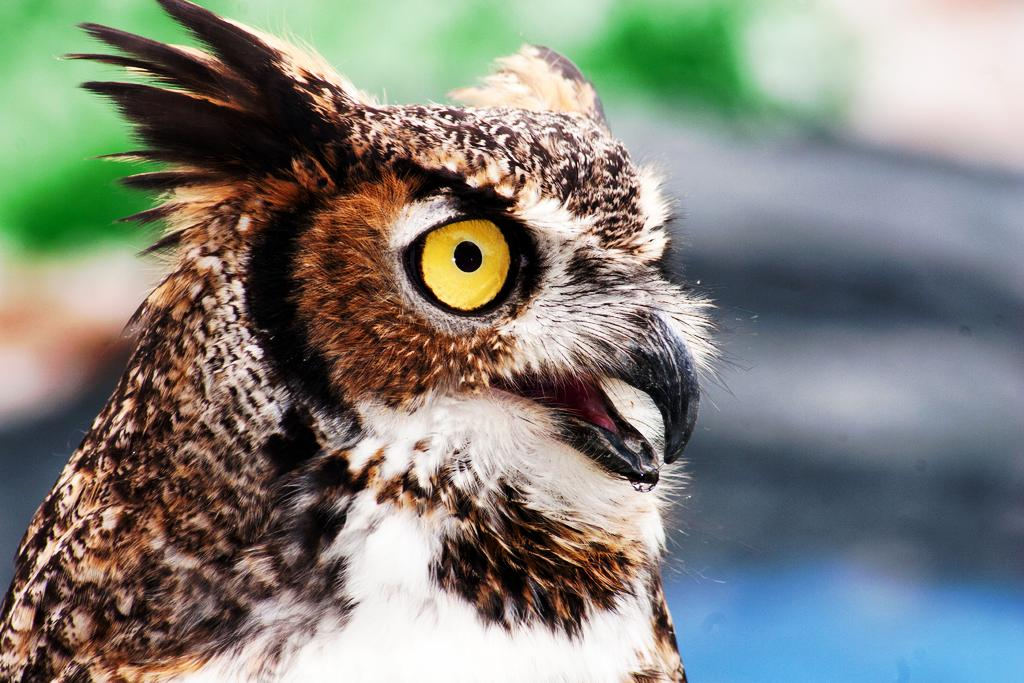Owl: (0, 0, 723, 682)
